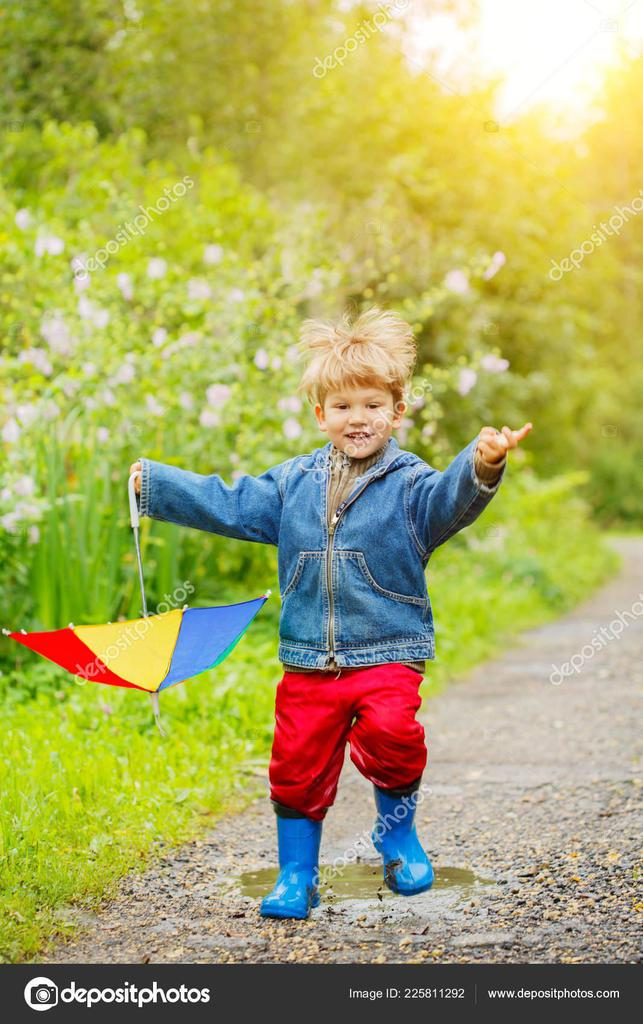child: (107, 333, 548, 918)
